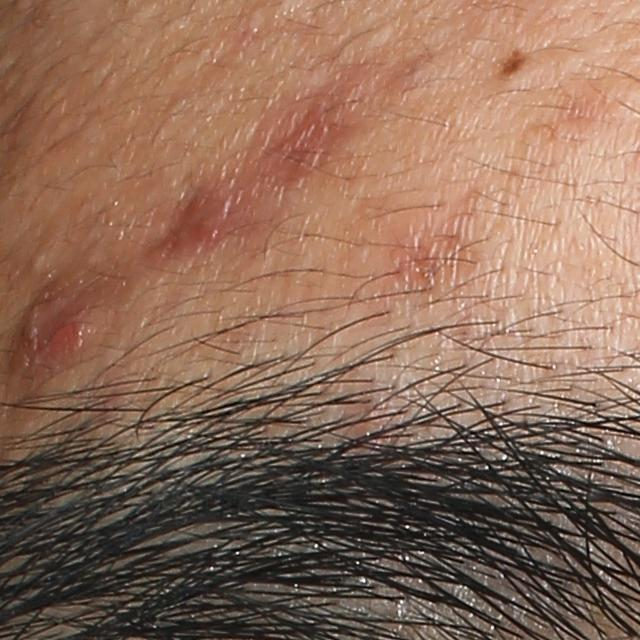nevus: (489, 47, 527, 81)
